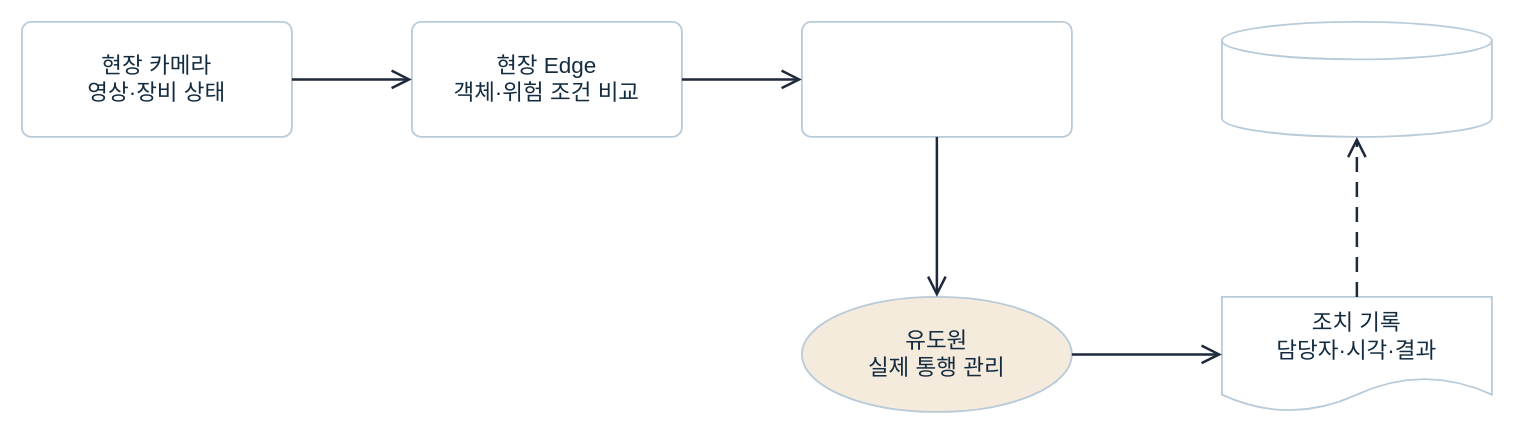
Image size: 1515x435. Some labels were removed from this diagram. The shapes that lost their labels are listed below. From the top down, each one's centre as x and y in pixels, then its label:
point (936, 78): 담당자 경고 장치 응답·실동작
point (1356, 78): 운영 원장 이벤트·장치 이력
